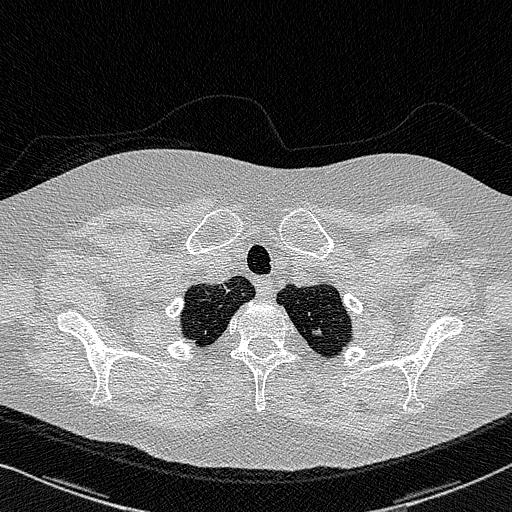nodule: (312, 326, 324, 338)
